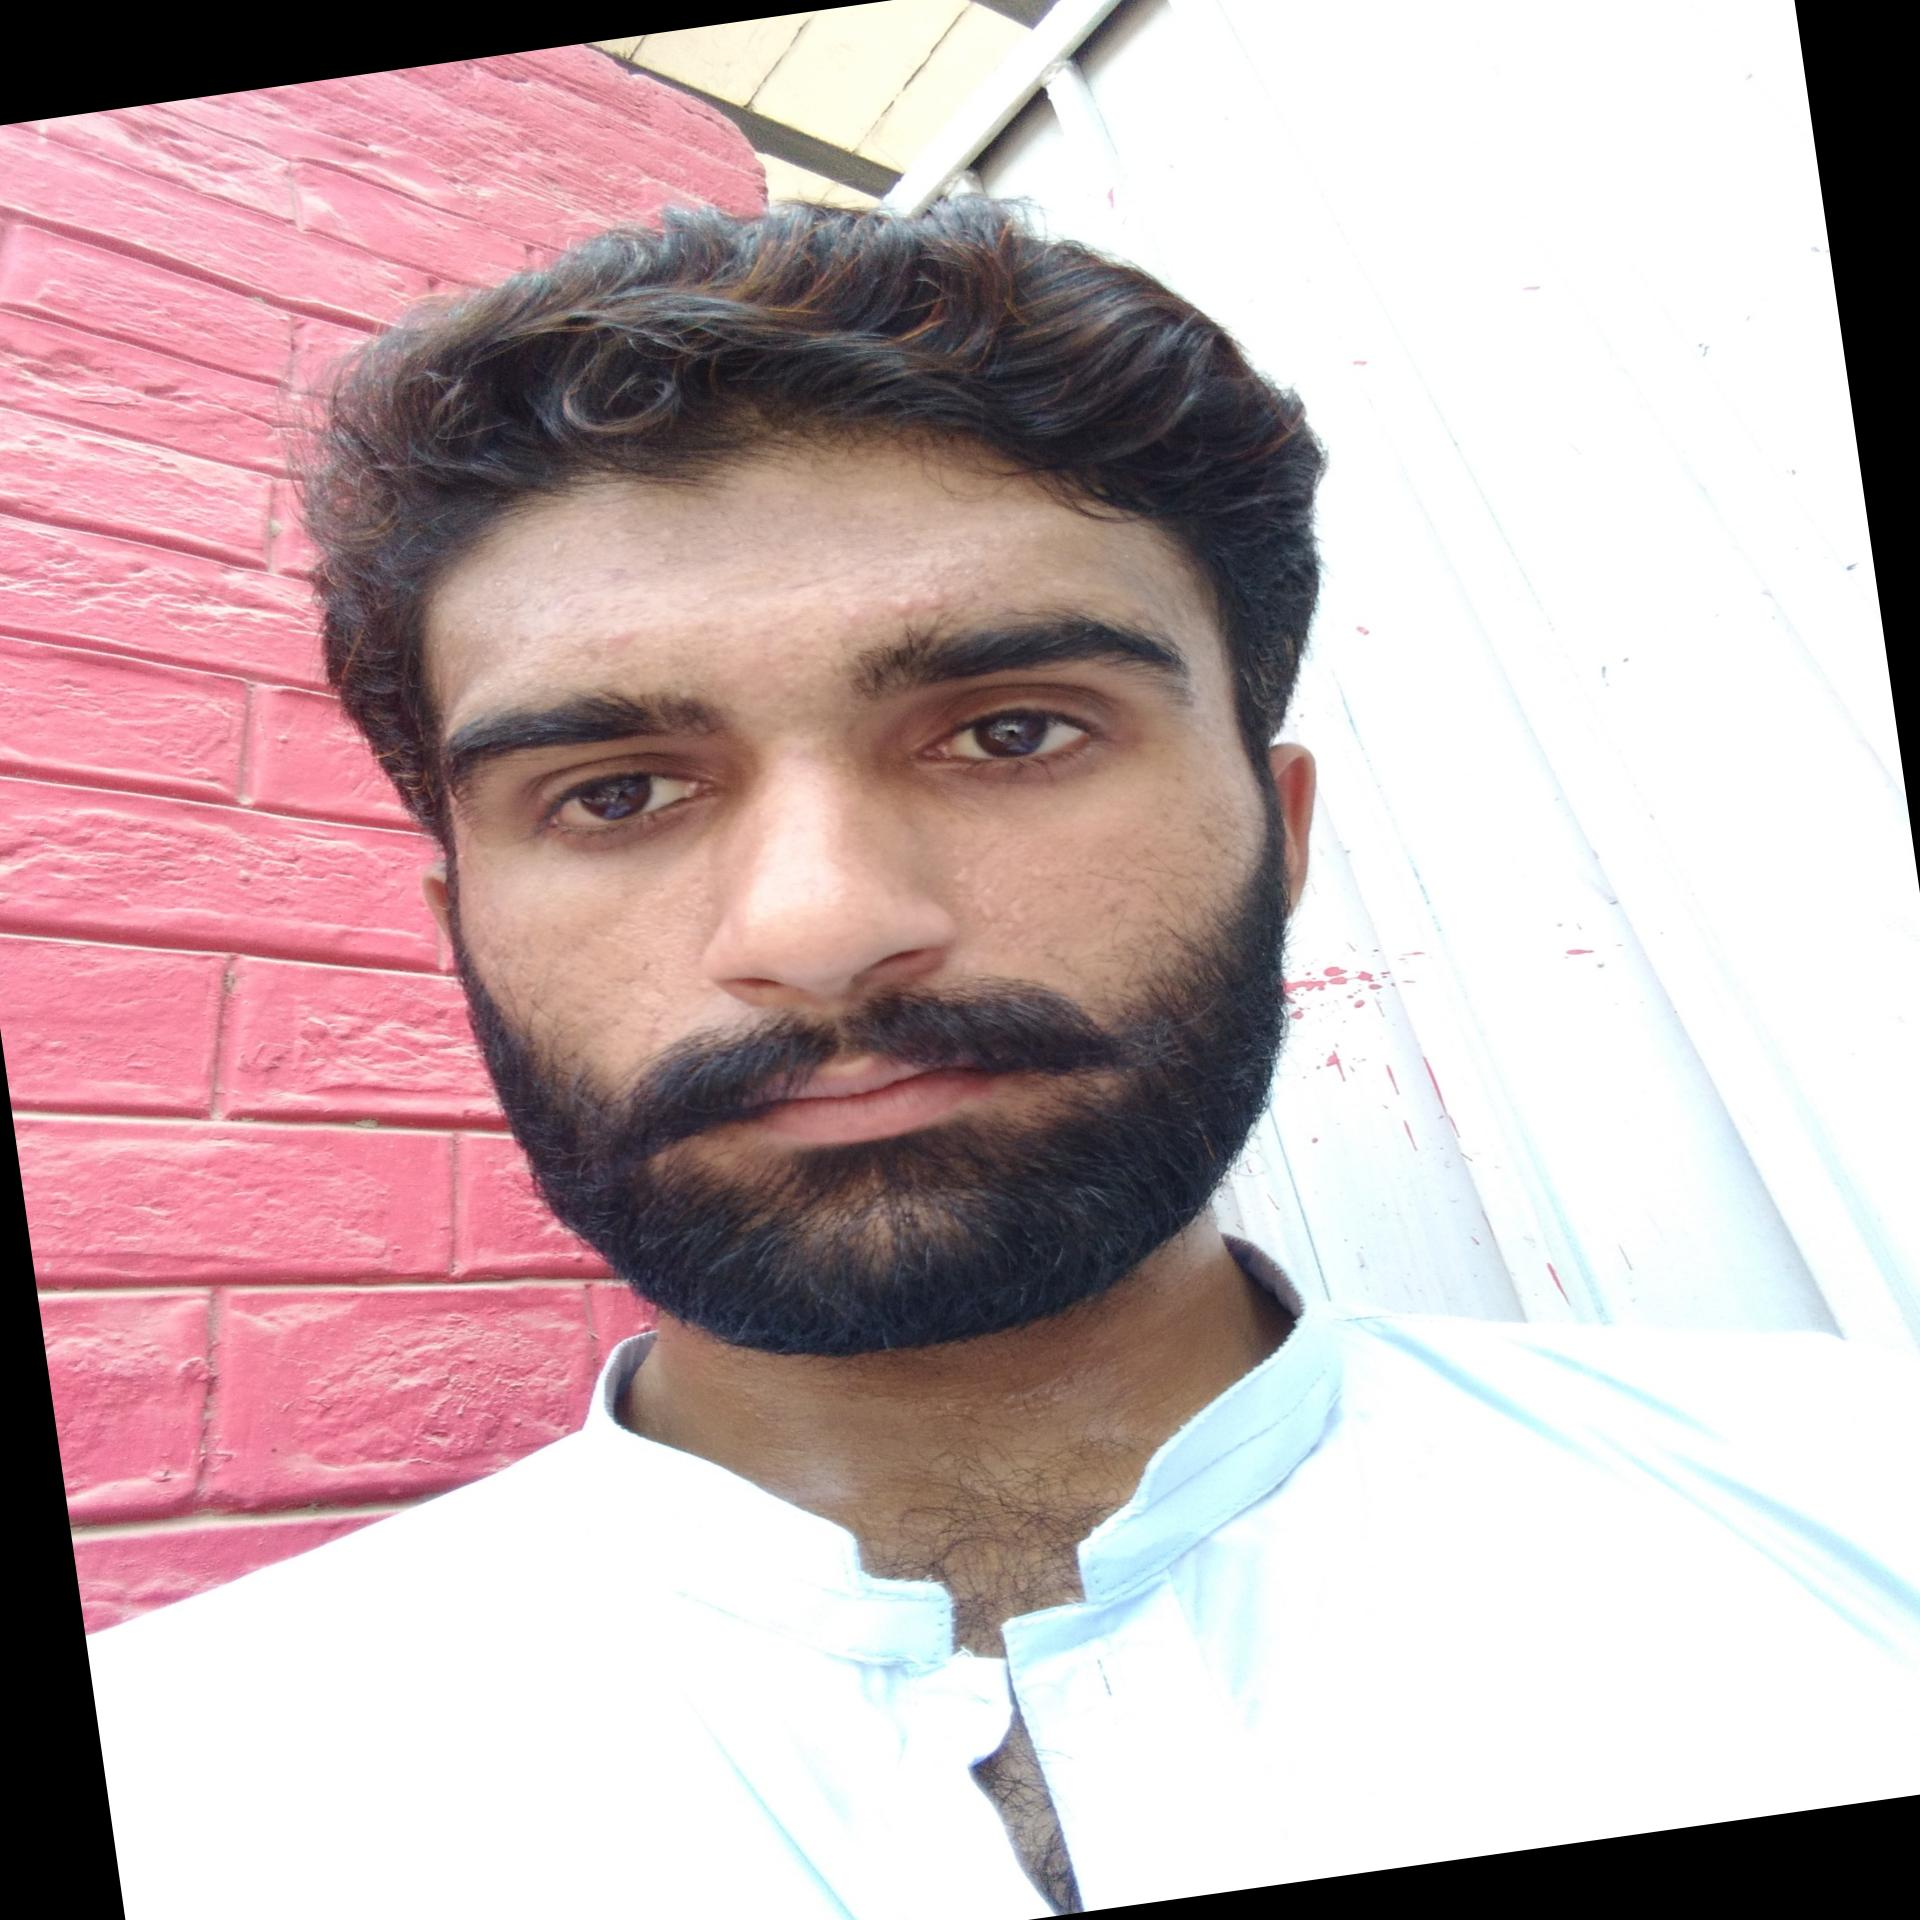Acne: (842, 587, 953, 629), (601, 622, 644, 652), (512, 628, 540, 647)
Dark Circles: (907, 738, 1127, 812), (533, 796, 710, 863)
Dry Skin: (515, 589, 733, 686), (758, 554, 853, 707), (851, 529, 1002, 621), (459, 577, 566, 633), (552, 557, 647, 603)
Englarged Pores: (941, 819, 1065, 965), (593, 876, 726, 999), (628, 988, 682, 1043)
